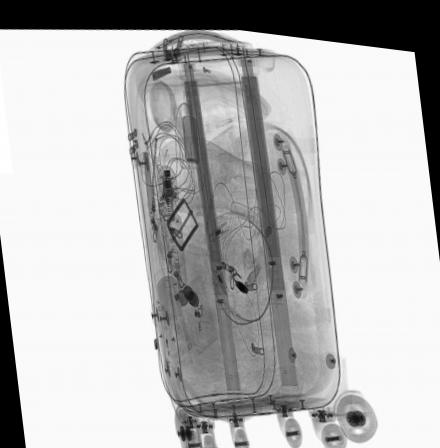Lighter: (156, 300, 172, 366)
